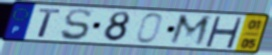0: (134, 11, 167, 45)
8: (100, 10, 130, 44)
H: (204, 15, 245, 50)
M: (167, 13, 214, 48)
S: (59, 8, 93, 42)
T: (37, 7, 64, 39)
